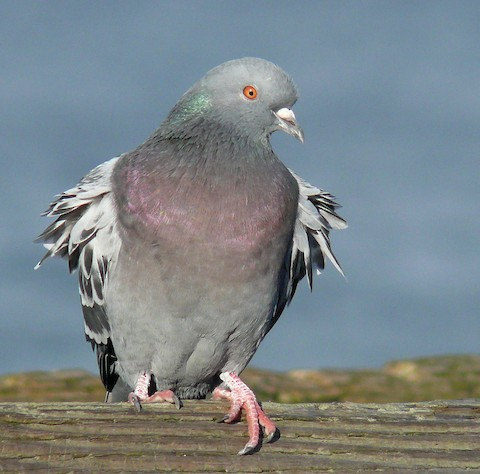pigeon: (27, 54, 354, 459)
